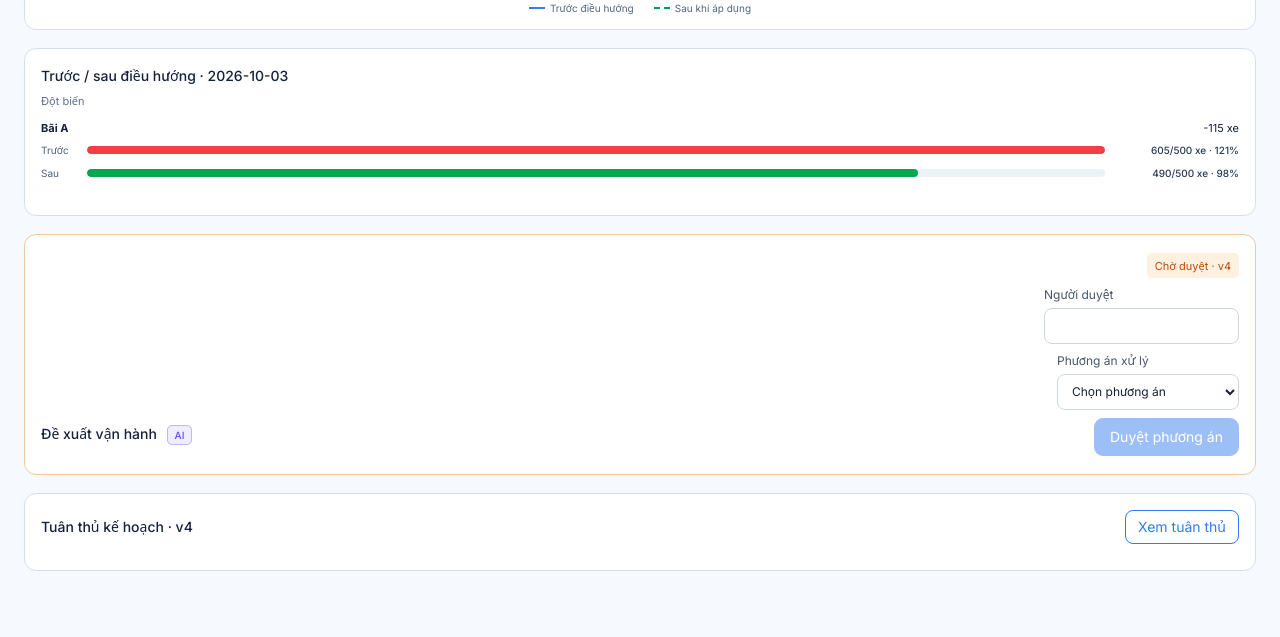
Test: ForecastPage › loads compliance for the active plan version
(page scrolled)
Click the button "Xem tuân thủ" at coordinates (1182, 527), box [1125, 510, 1239, 544]
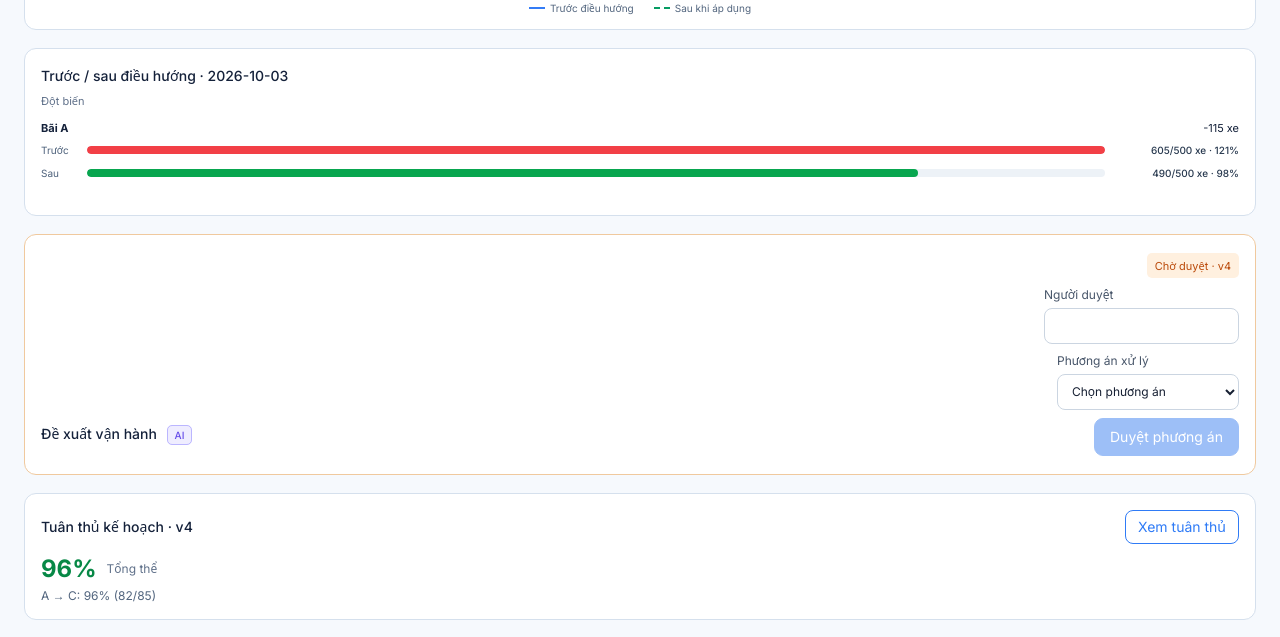
Expected: the text "96%" is shown, [41, 554, 96, 583]
Expected: the text "A → C: 96% (82/85)" is shown, [41, 588, 156, 603]
